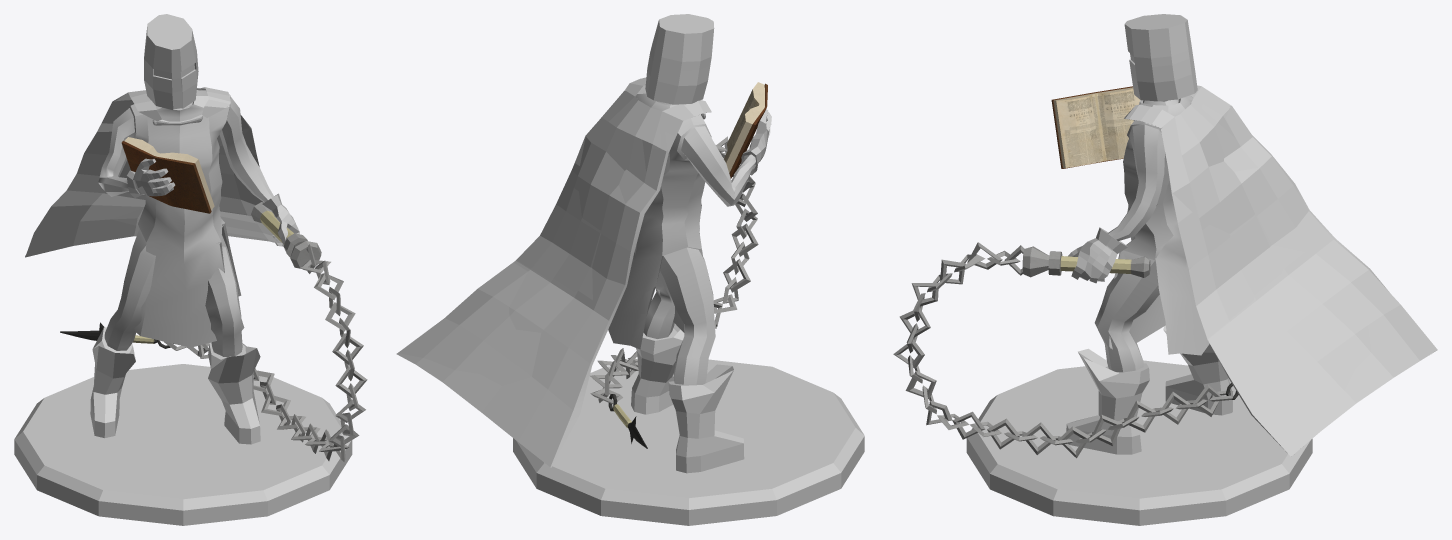
File: Templar_Book_Hook.fbx
3 renders of one model, left to right at view 1: azimuth 30°, elevation 25°; view 2: azimuth 150°, elevation 25°; view 3: azimuth 270°, elevation 25°, orthographic. The views are drawn at different scales.
Visible parts, largest first — view 1: Templar_Book_Hook, Base10, Cape, Hook, Book; view 2: Cape, Base10, Templar_Book_Hook, Hook, Book; view 3: Cape, Base10, Templar_Book_Hook, Hook, Book.
Part boxes in pixels (x1,y1,x2,y2): Templar_Book_Hook: [90, 14, 299, 444]; Base10: [14, 364, 352, 525]; Cape: [25, 87, 280, 257]; Hook: [60, 202, 367, 461]; Book: [121, 137, 214, 213]; Cape: [396, 77, 711, 467]; Base10: [513, 359, 864, 525]; Templar_Book_Hook: [608, 14, 771, 473]; Hook: [590, 136, 758, 448]; Book: [724, 82, 767, 178]; Cape: [1124, 85, 1437, 456]; Base10: [966, 360, 1312, 525]; Templar_Book_Hook: [1066, 14, 1232, 454]; Hook: [893, 242, 1238, 458]; Book: [1051, 86, 1139, 168].
Size of the model in its own units: 242 by 276 by 315.
